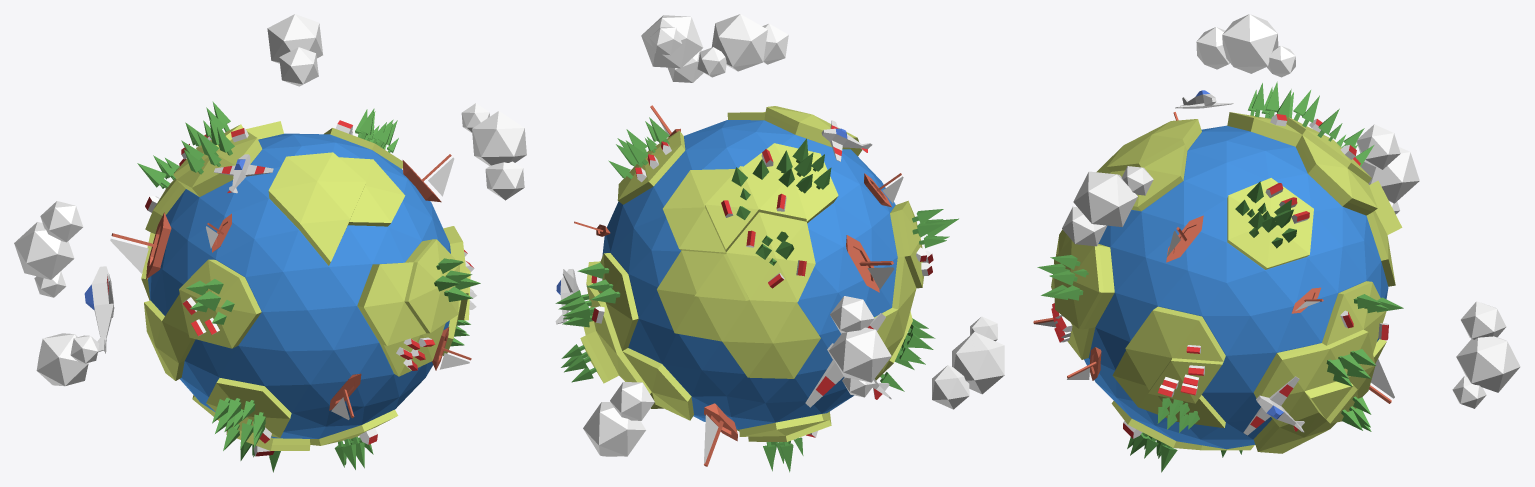
The model's file is planet.glb.
3 renders of one model, left to right at view 1: azimuth 30°, elevation 25°; view 2: azimuth 150°, elevation 25°; view 3: azimuth 270°, elevation 25°, orthographic. The views are drawn at different scales.
Parts seen in each view (by area): view 1: Icosphere.001, Icosphere, Icosphere.004, Icosphere.003, Icosphere.002, Icosphere.006, Plane, Plane.001, Plane.111, Plane.117, Plane.109, Plane.110; view 2: Icosphere, Icosphere.001, Icosphere.006, Icosphere.003, Icosphere.002, Icosphere.005, Icosphere.004, Plane, Plane.108, Plane.001, Plane.117, Plane.106 (+1 smaller); view 3: Icosphere.001, Icosphere, Icosphere.005, Icosphere.004, Icosphere.002, Icosphere.003, Plane.119, Plane.111, Plane.110, Plane.108, Plane.117.
Part boxes in pixels (x1,y1,x2,y2): Icosphere.001: (148, 133, 450, 438); Icosphere: (141, 121, 470, 450); Icosphere.004: (461, 103, 526, 200); Icosphere.003: (14, 201, 83, 297); Icosphere.002: (267, 14, 322, 86); Icosphere.006: (36, 333, 99, 386); Plane: (110, 212, 171, 279); Plane.001: (84, 266, 114, 353); Plane.111: (402, 154, 454, 202); Plane.117: (214, 154, 273, 193); Plane.109: (329, 373, 361, 419); Plane.110: (432, 327, 471, 370); Icosphere: (580, 106, 923, 441); Icosphere.001: (602, 120, 897, 429); Icosphere.006: (932, 316, 1004, 409); Icosphere.003: (829, 296, 891, 397); Icosphere.002: (697, 14, 788, 77); Icosphere.005: (583, 382, 654, 456); Icosphere.004: (641, 15, 703, 82); Plane: (846, 235, 894, 292); Plane.108: (704, 403, 737, 466); Plane.001: (805, 313, 891, 407); Plane.117: (821, 120, 872, 161); Plane.106: (864, 173, 903, 207); Icosphere.001: (1084, 125, 1388, 449); Icosphere: (1051, 112, 1402, 453); Icosphere.005: (1452, 301, 1520, 408); Icosphere.004: (1062, 166, 1153, 246); Icosphere.002: (1196, 14, 1295, 77); Icosphere.003: (1356, 124, 1419, 214); Plane.119: (1243, 376, 1304, 435); Plane.111: (1166, 215, 1203, 262); Plane.110: (1067, 347, 1101, 380); Plane.108: (1369, 359, 1394, 403); Plane.117: (1175, 90, 1233, 108).
Bounding box in the file's own units: 3.29 × 3.24 × 3.1.
